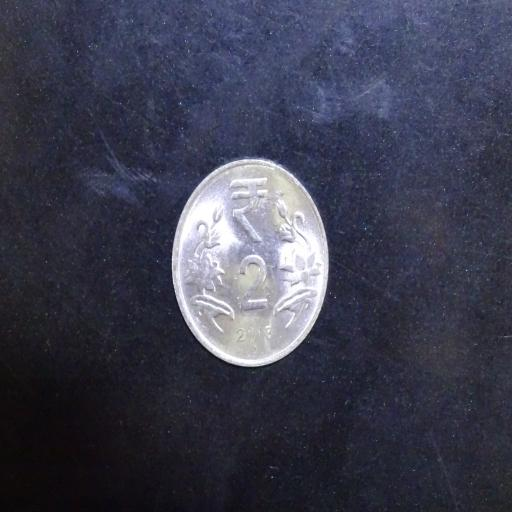rupee2: (165, 155, 332, 372)
